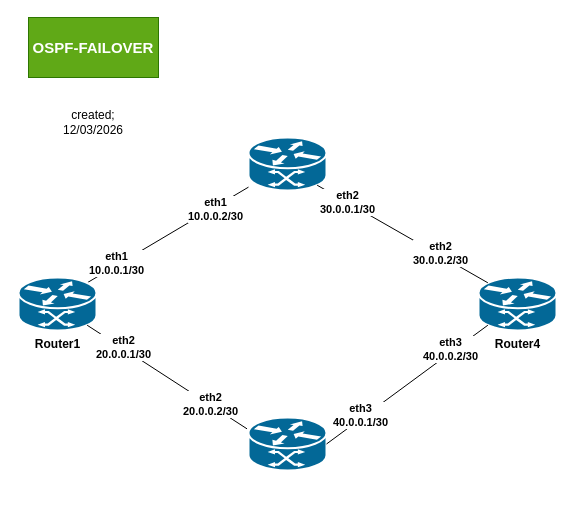
This 574x509 diagram has some shape labels left out. Each missing label, with the box of its shape:
Router2: (247, 136, 327, 191)
Router3: (247, 416, 327, 471)
